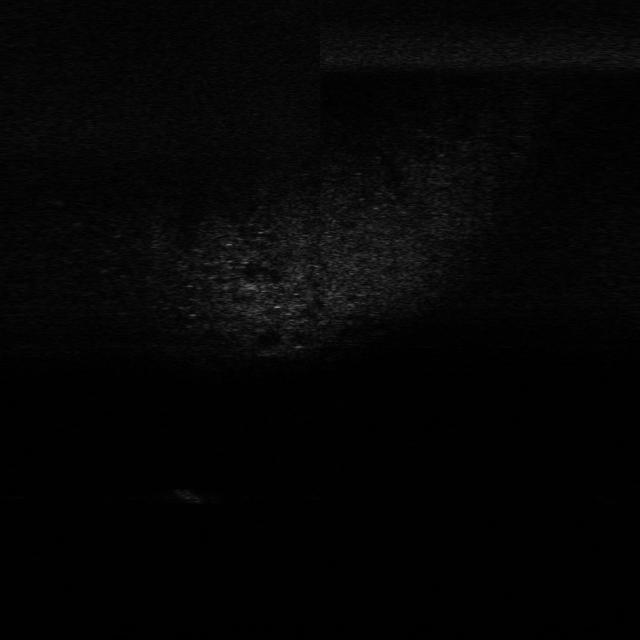cylinder: (171, 483, 207, 506)
